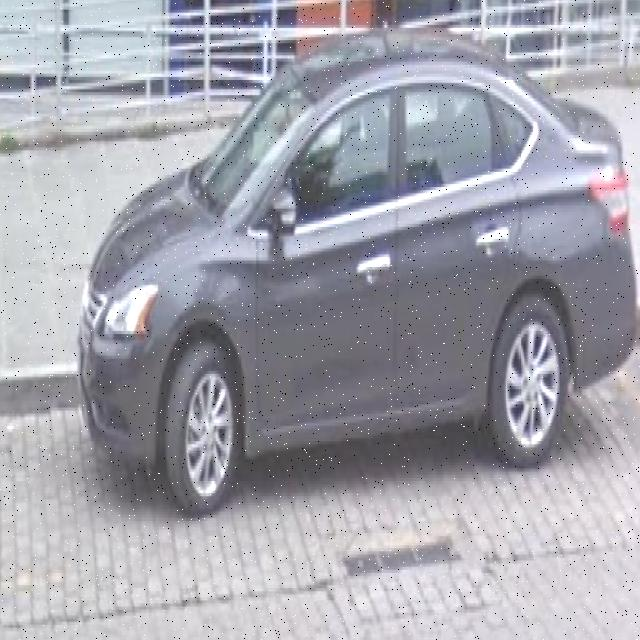car: (70, 27, 638, 517)
